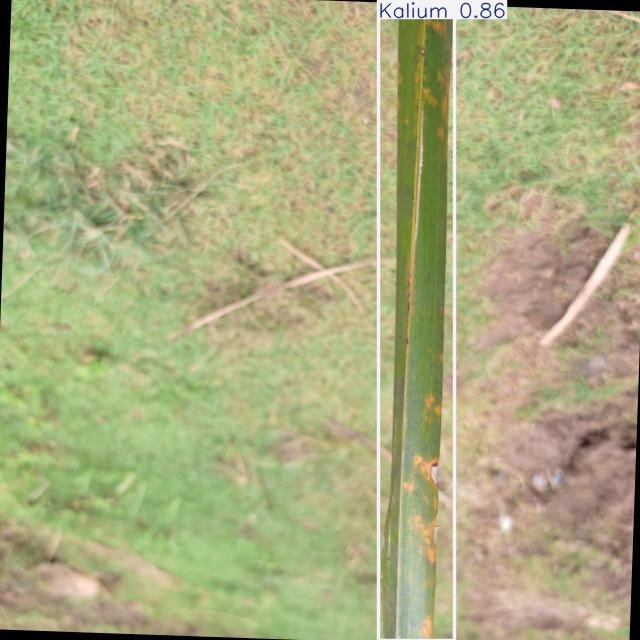Kalium: (378, 0, 454, 640)
